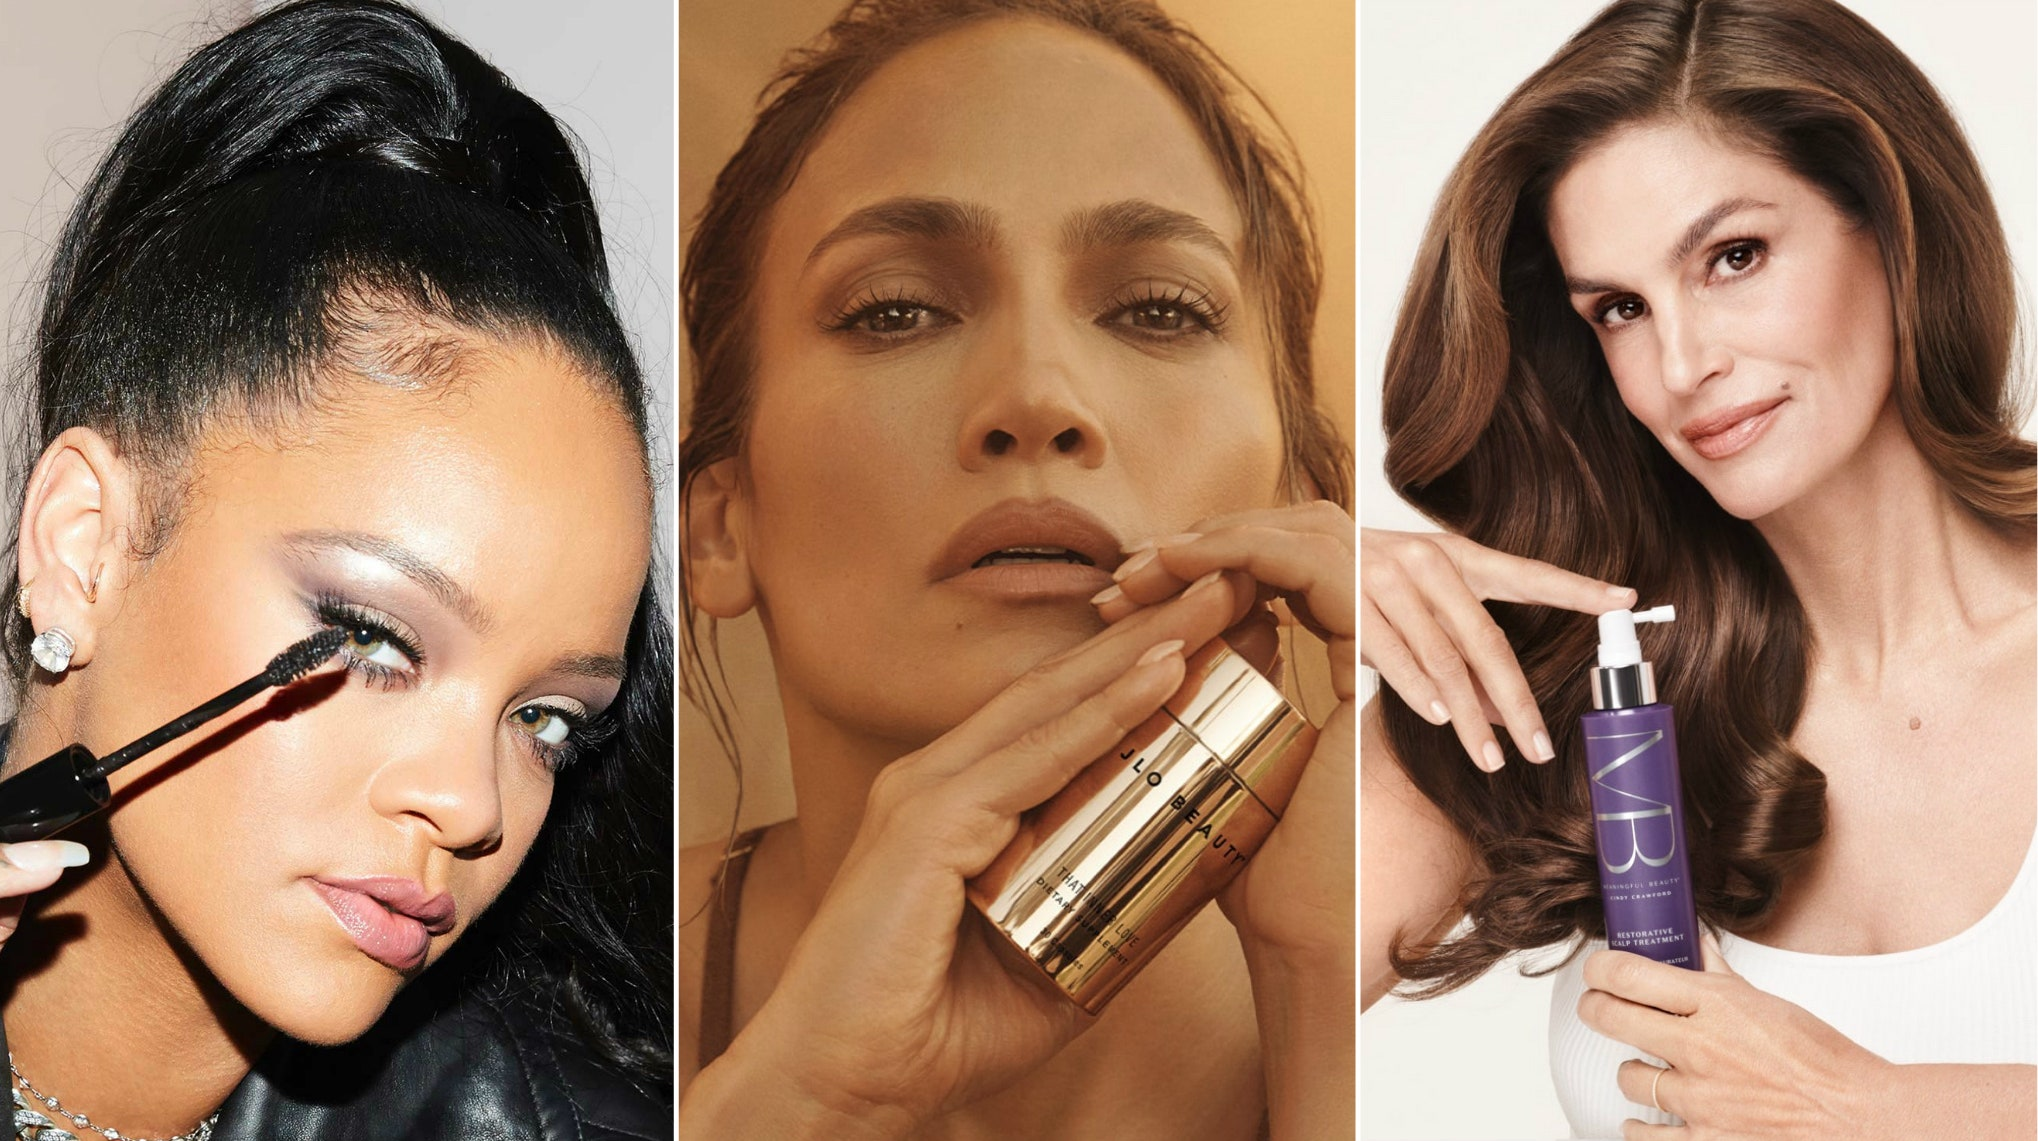NoMask: (159, 501, 627, 1040), (794, 176, 1245, 723), (1569, 181, 1837, 527)
